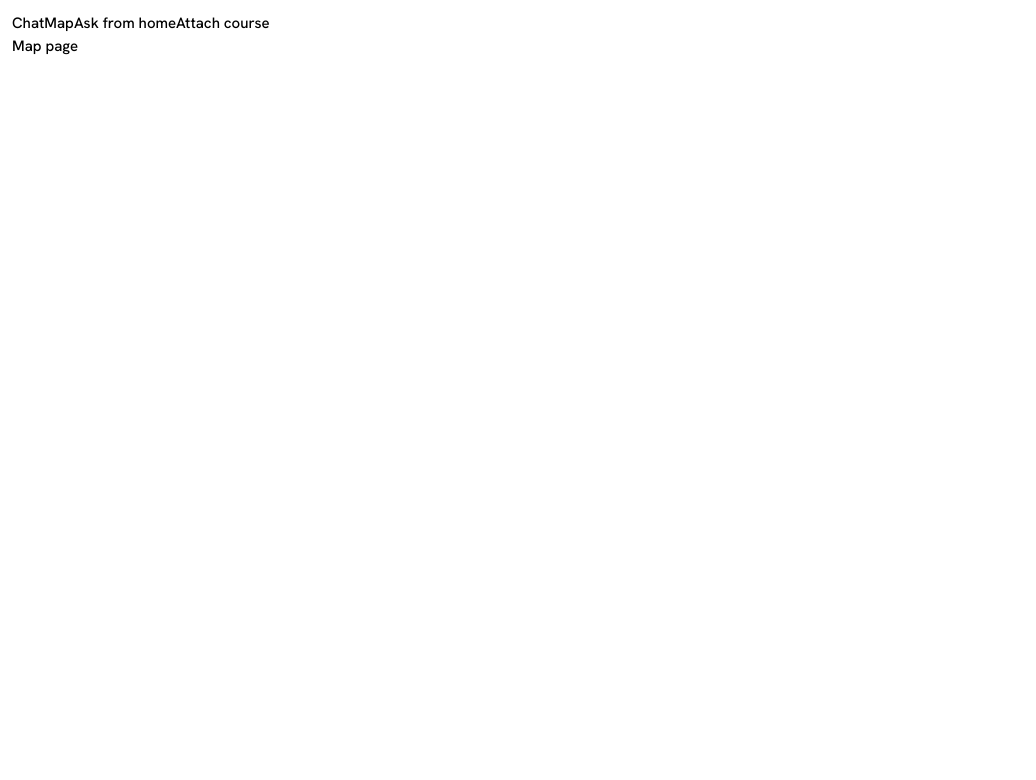
the conversation is still there after leaving the chat page and coming back
The width and height of the screenshot is (1036, 780).
Click the link "Chat" at (28, 23), box [12,13,44,33]
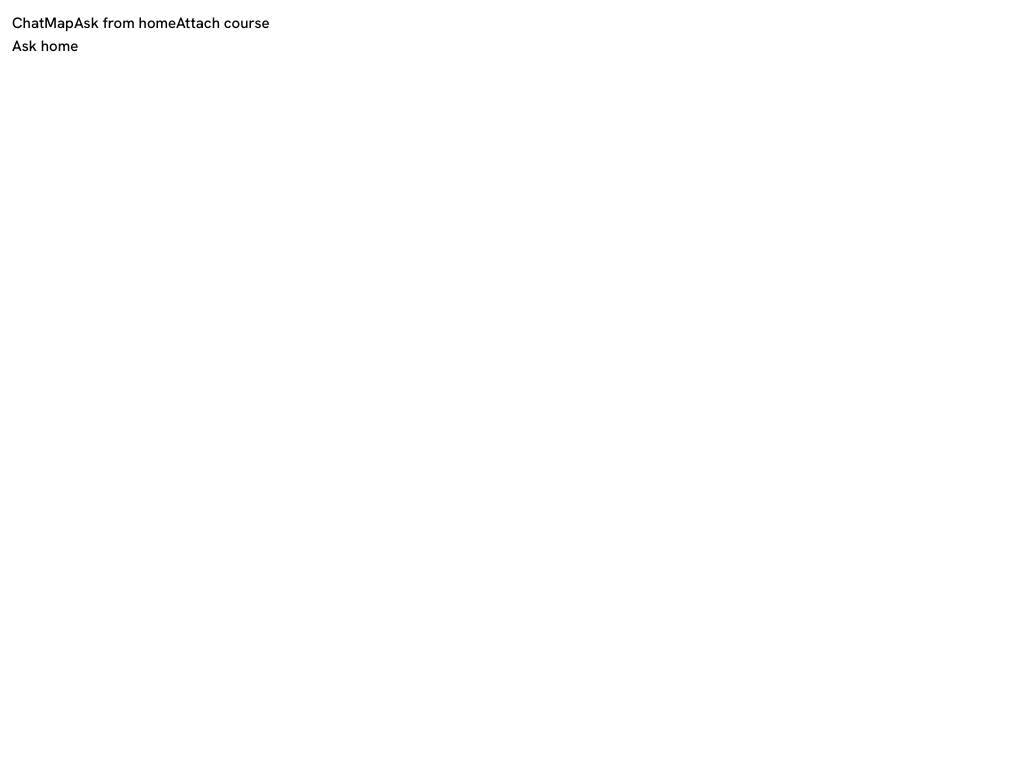
Now the text "Ask home" is shown, box [12,36,78,56]
Click the link "Ask from home" at (125, 23), box [74,13,176,33]
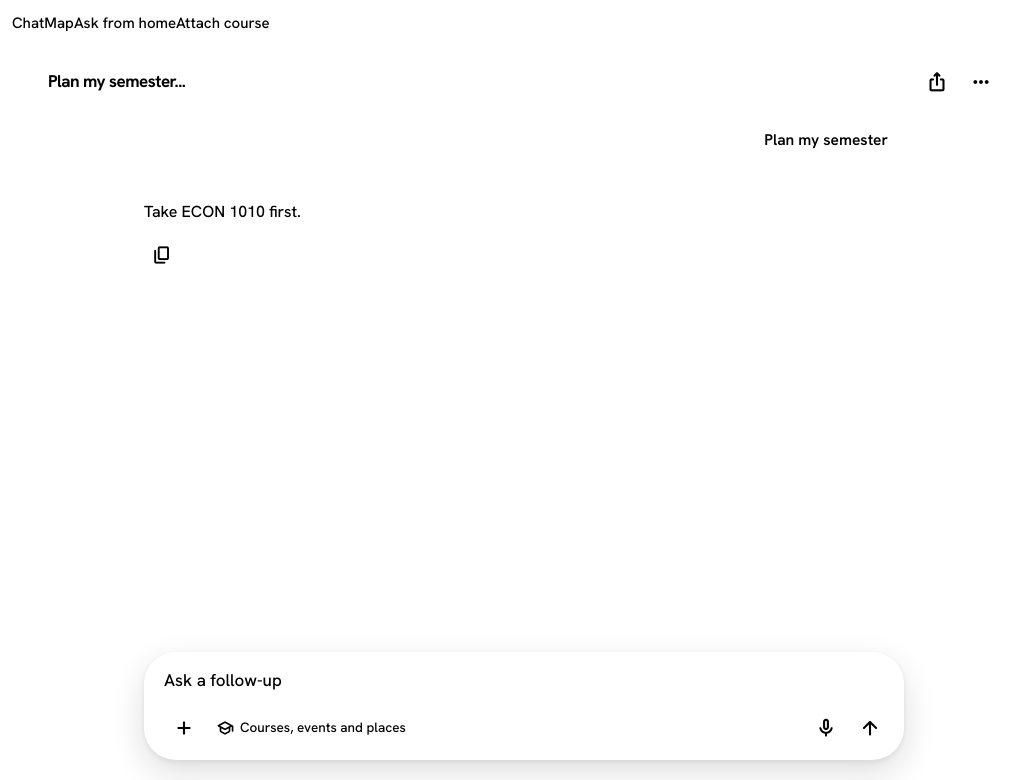
Now the text "Take ECON 1010 first." is shown, box [144,201,301,222]
Click the link "Map" at (59, 23), box [44,13,74,33]
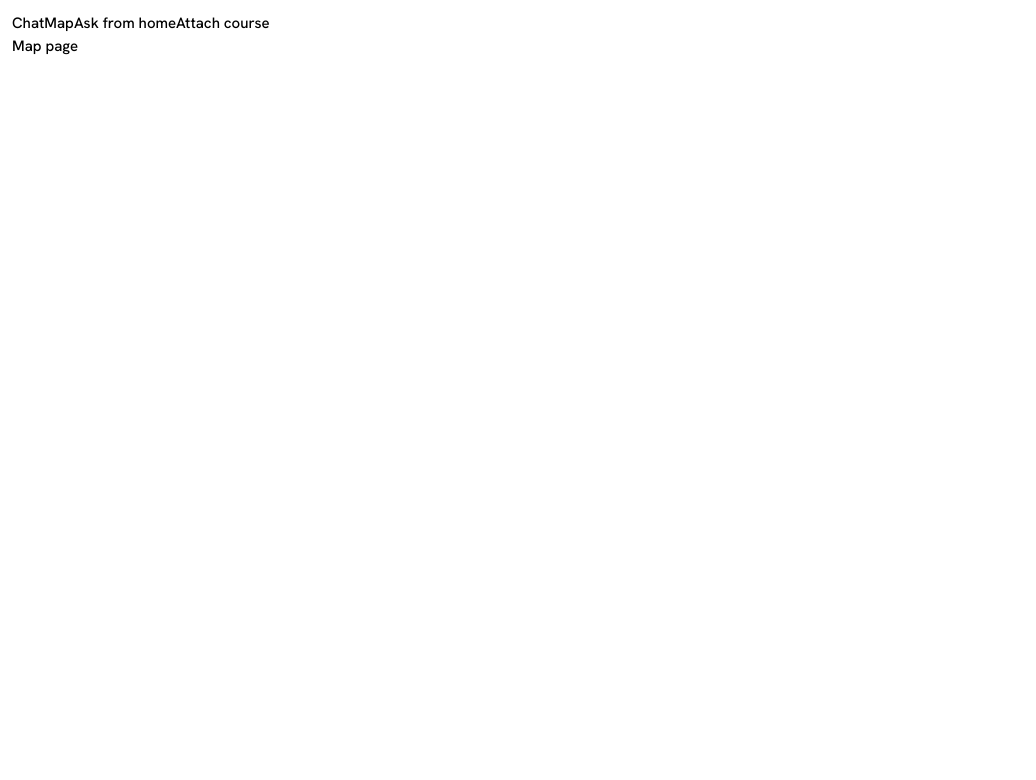
Now the text "Map page" is shown, box [12,36,78,56]
Now the text "Take ECON 1010 first." is gone
Click the link "Chat" at (28, 23), box [12,13,44,33]
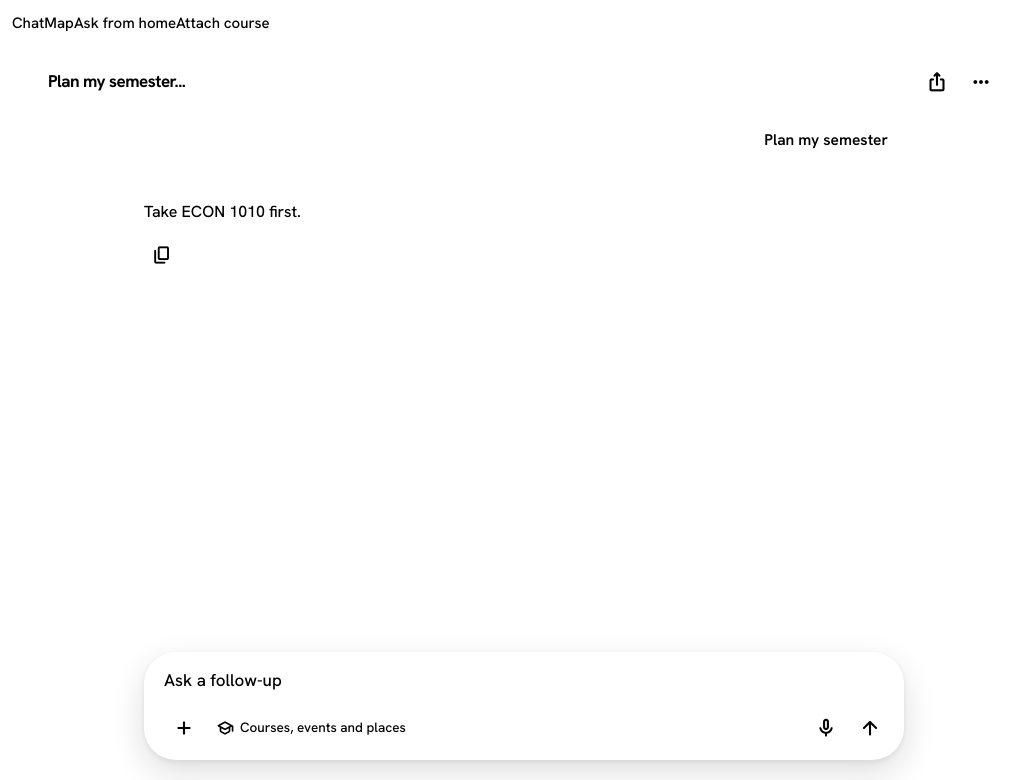
Now the text "Take ECON 1010 first." is shown, box [144,201,301,222]
Now the text "Plan my semester" is shown, box [764,128,888,151]
